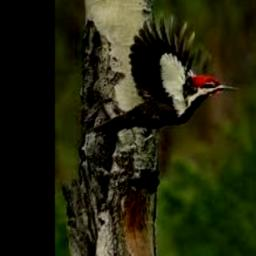Woodpecker: (88, 14, 238, 140)
